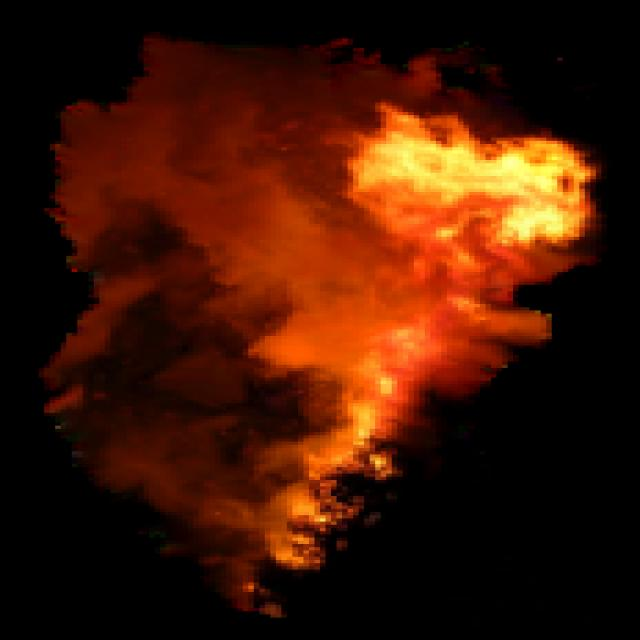fire: (27, 41, 640, 624)
